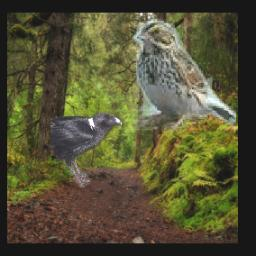Crow: (51, 112, 123, 187)
Sparrow: (133, 20, 237, 131)
